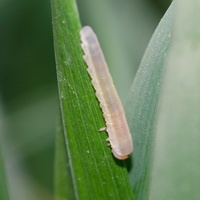insect: (80, 26, 132, 159)
